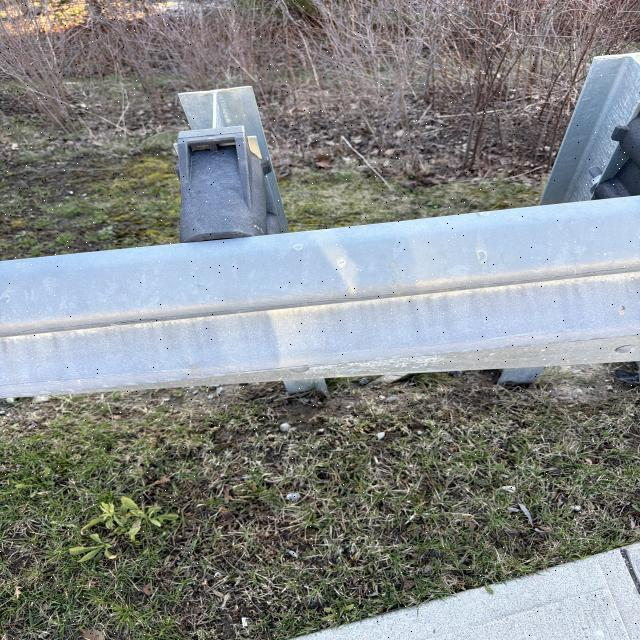Guard rail: (36, 92, 640, 370), (591, 111, 640, 200)
